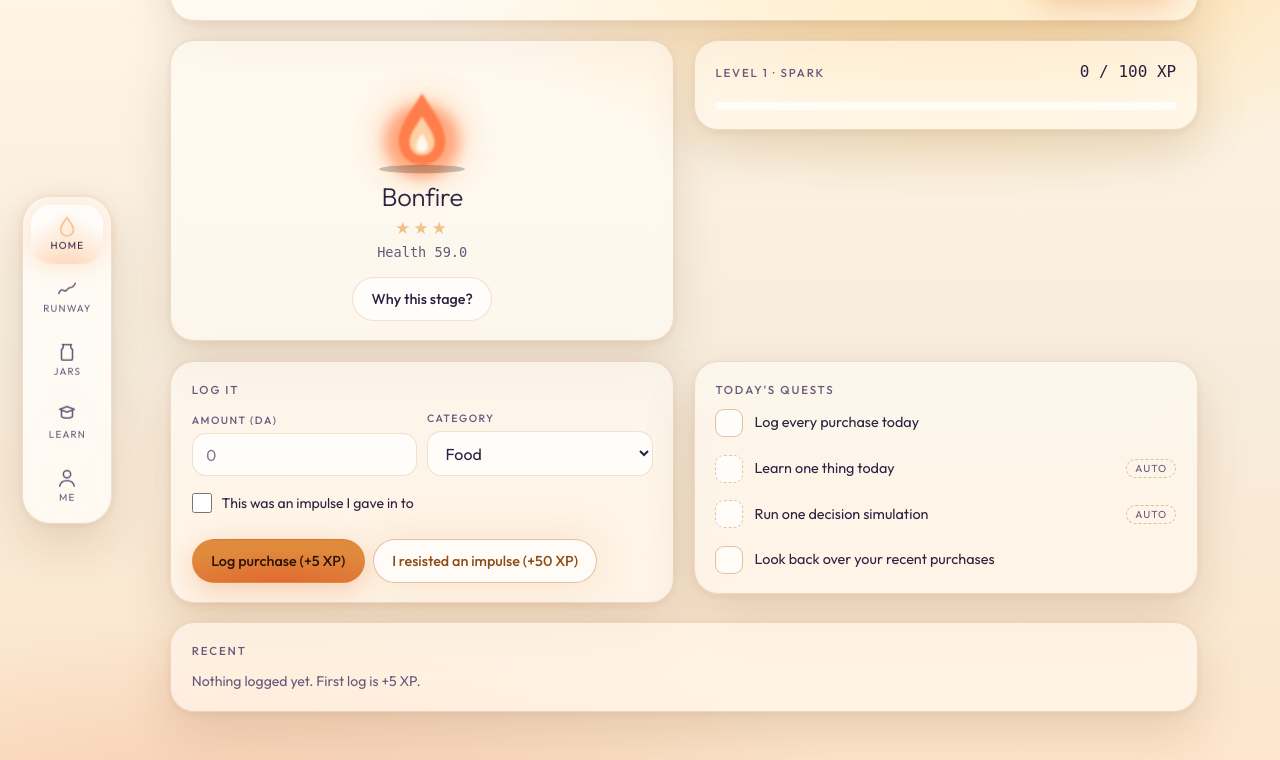
Test case: logging flow › clears the error once the user types again
The width and height of the screenshot is (1280, 760).
(page scrolled)
Click the button "Log purchase (+5 XP)" at [278, 561], box [192, 539, 365, 583]
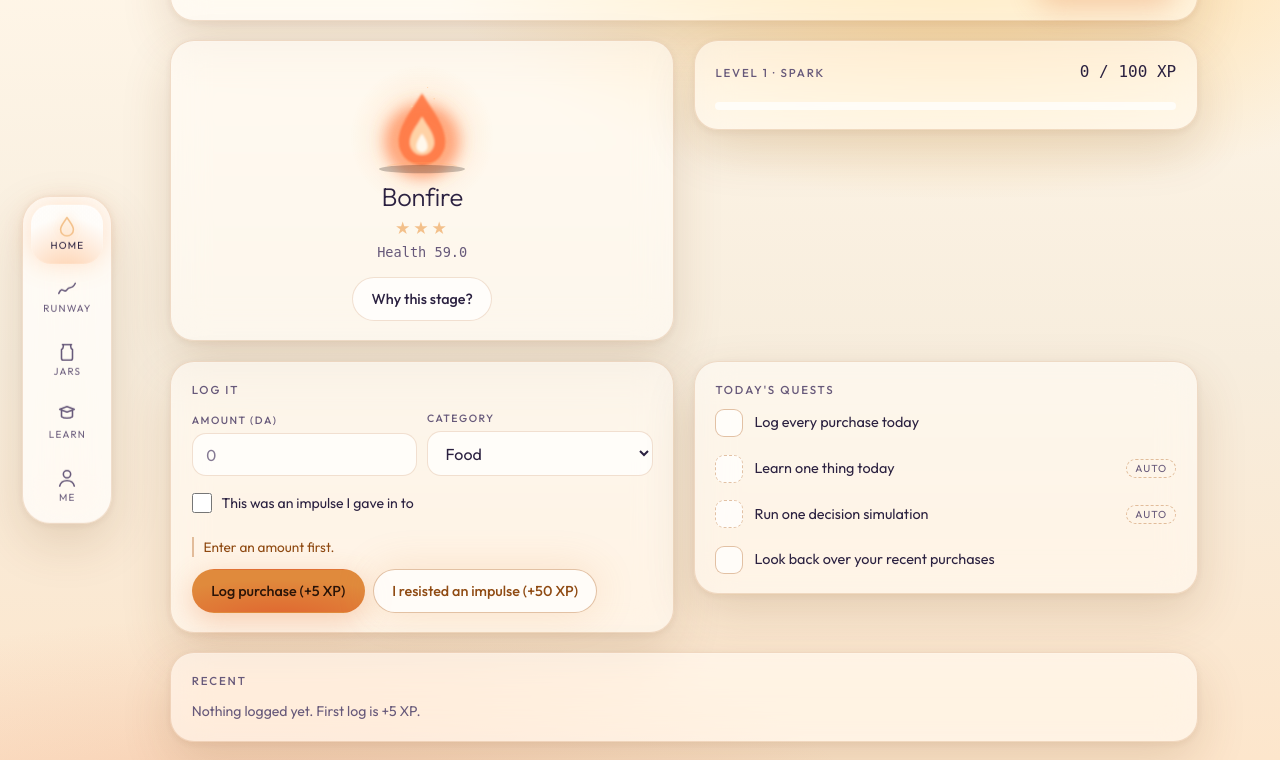
Type "2" into the field labelled "Amount (DA)" at [305, 455], box [192, 433, 417, 476]
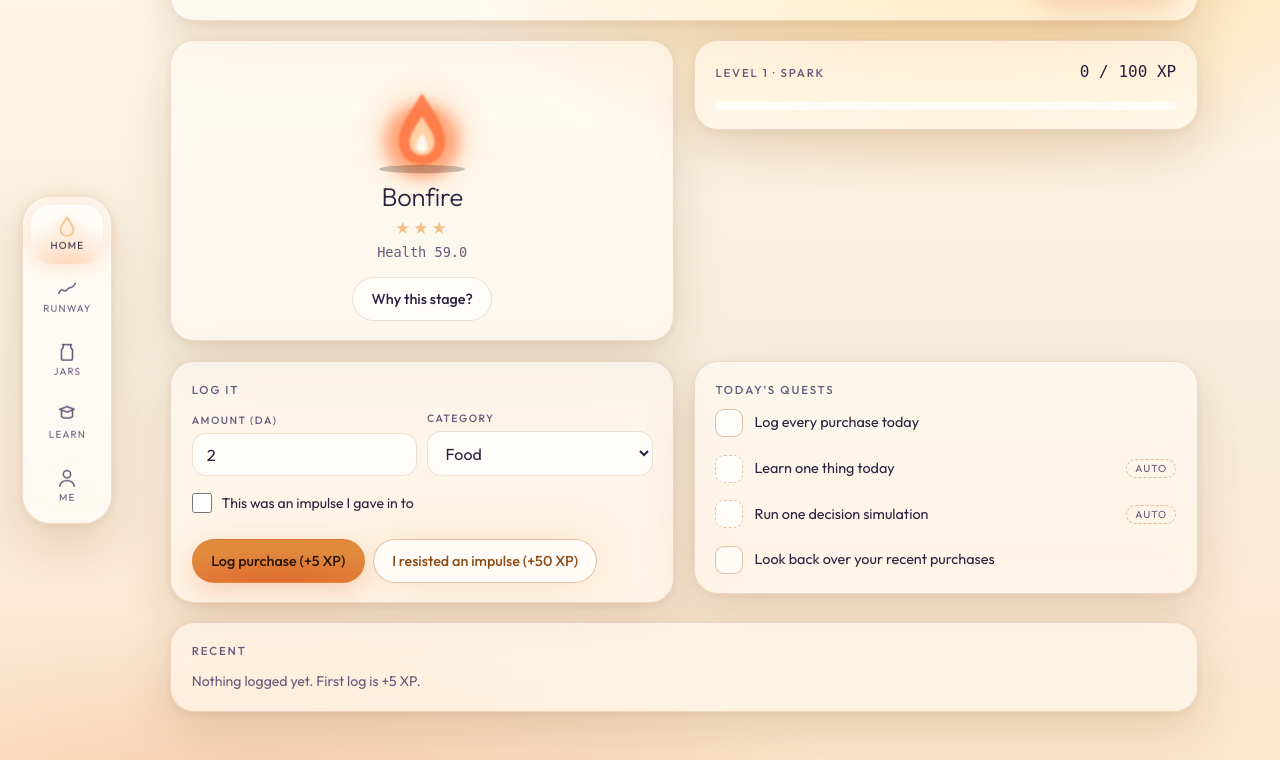
Now the message "Enter an amount first." is gone
